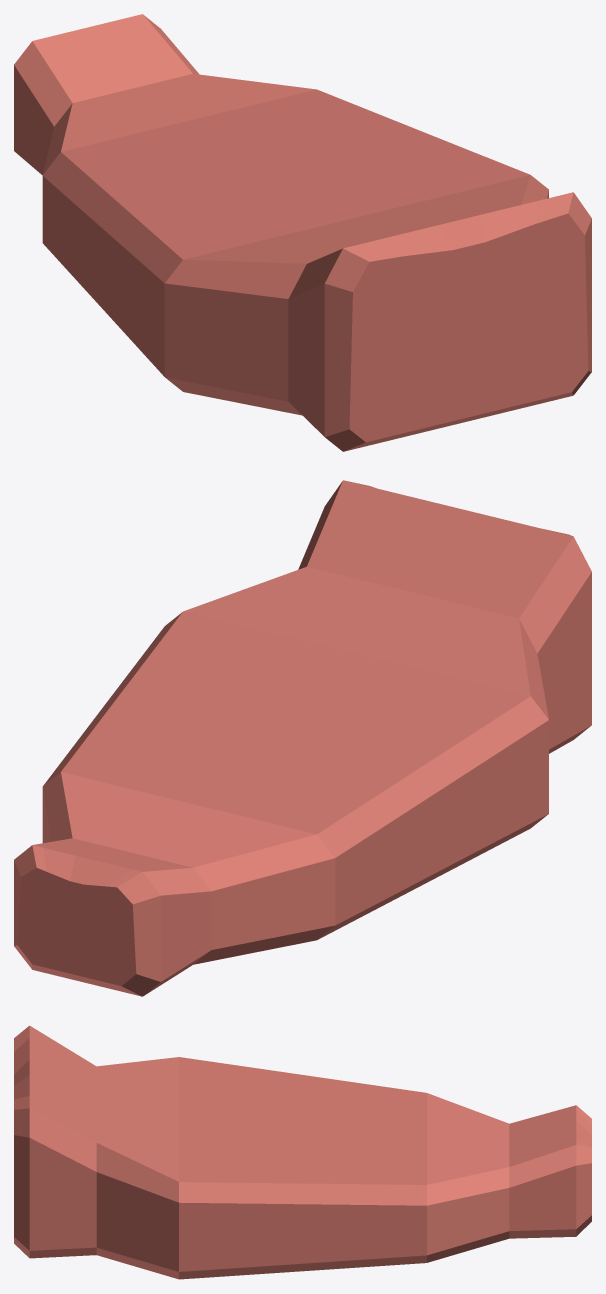
Rendered from calder_light_b.glb.
The picture shows the model from 3 angles, top to bottom: view 1: azimuth 30°, elevation 25°; view 2: azimuth 150°, elevation 25°; view 3: azimuth 270°, elevation 25°; orthographic projection. The views are drawn at different scales.
Parts seen in each view (by area): view 1: calder_light_b; view 2: calder_light_b; view 3: calder_light_b.
Part boxes in pixels (left/top/right/bottom): calder_light_b: left=14, top=14, right=591, bottom=451; calder_light_b: left=14, top=480, right=591, bottom=996; calder_light_b: left=14, top=1025, right=591, bottom=1279.
Bounding box in the file's own units: 3 × 1.52 × 5.3.
